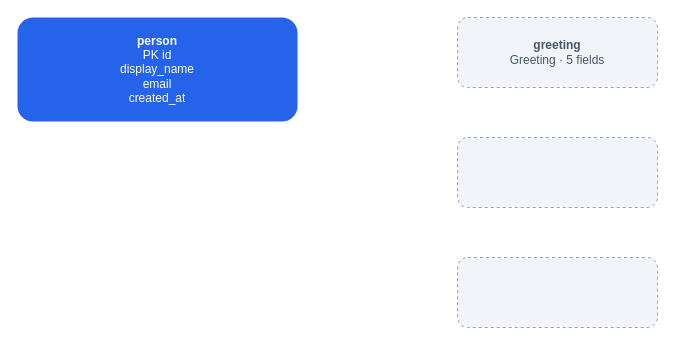
Image size: 675x345. Some labels were removed from this diagram. Each missing label, with the box of its shape:
conversation Conversation · 5 fields: (456, 256, 658, 328)
greeting_reaction Greeting reaction · 5 fields: (456, 136, 658, 208)
